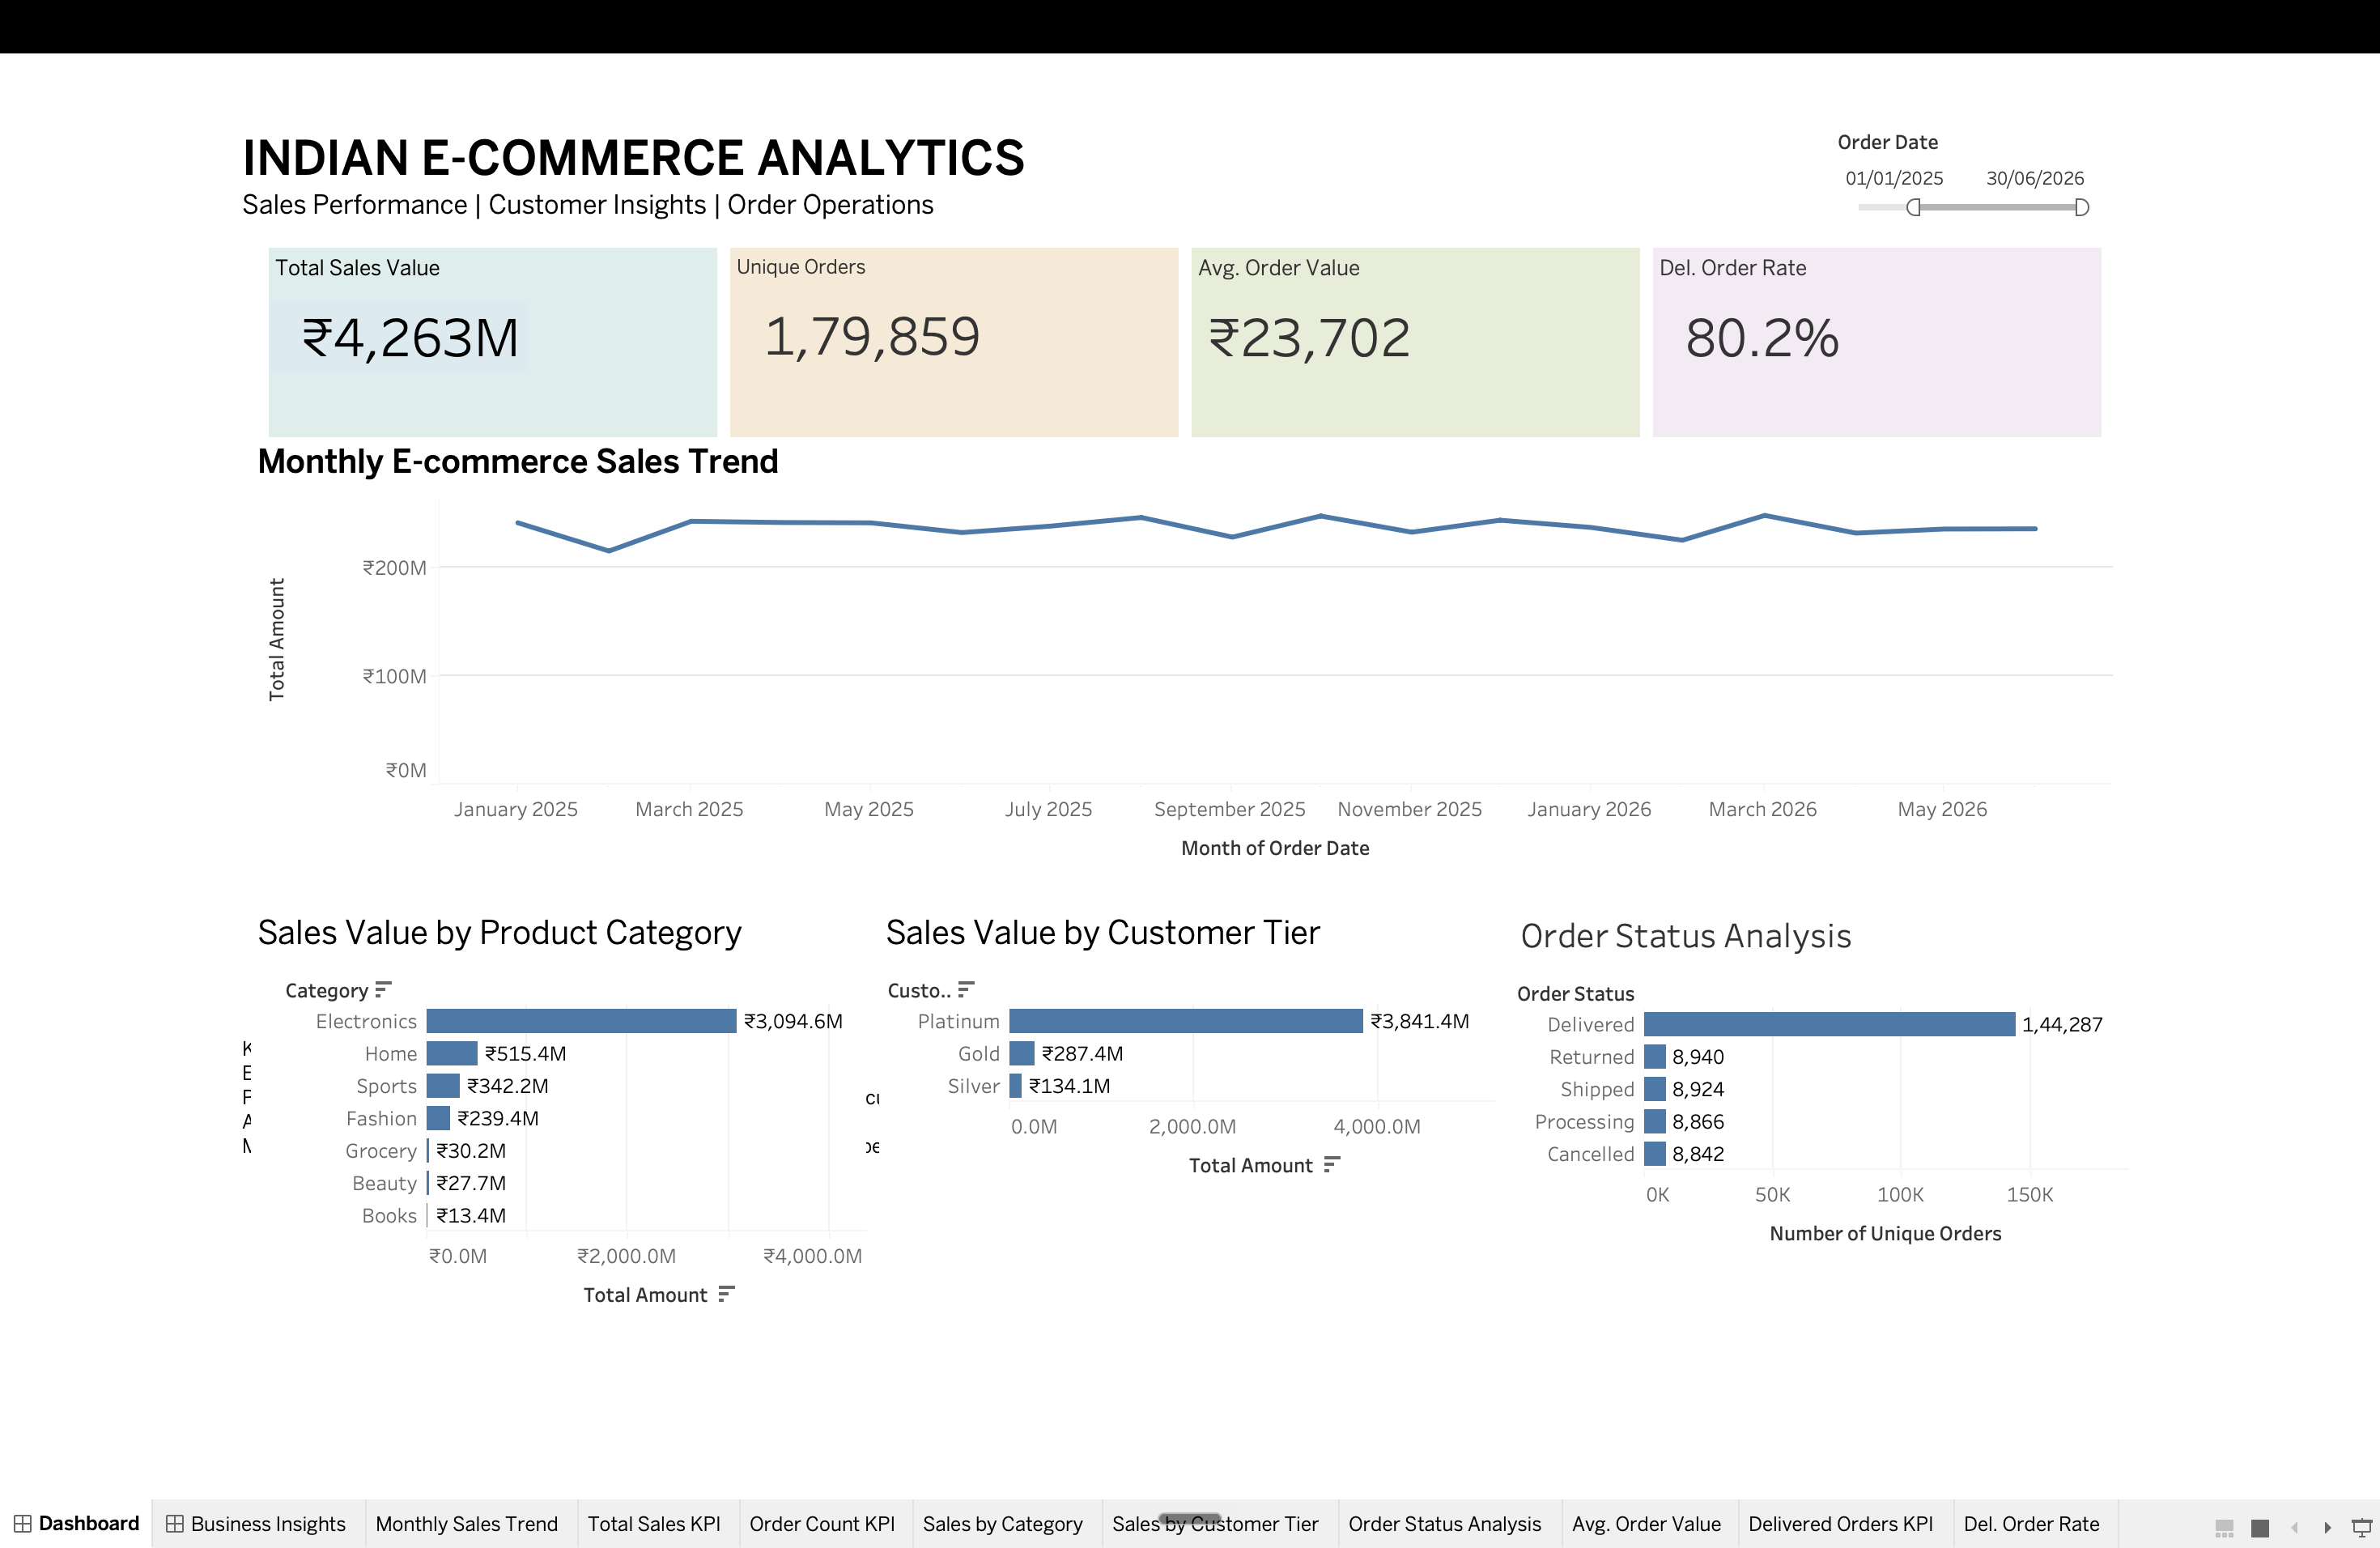

This screenshot's page, from the dashboard's own definition file:
{"tool":"tableau","page":{"name":"Dashboard","canvas":[1200,820],"ordinal":1},"visuals":[{"type":"text","box":[8,8,1184,400.7]},{"type":"filter","title":"Monthly Sales Trend","param":"[federated.0bud0om0487zih12tt0pt0pjv8jf].[none:Order_Date:qk]","box":[1000,10,160,63]},{"type":"worksheet","title":"Total Sales KPI","mark":"Automatic","box":[27,80,285,125]},{"type":"worksheet","title":"Order Count KPI","mark":"Automatic","box":[312,80,285,125]},{"type":"worksheet","title":"Avg. Order Value","mark":"Automatic","box":[597,80,285,125]},{"type":"worksheet","title":"Del. Order Rate","mark":"Automatic","box":[882,80,285,125]},{"type":"worksheet","title":"Monthly Sales Trend","mark":"Line","rows":["Total_Amount"],"cols":["Order_Date"],"box":[20,200,1150,270]},{"type":"text","box":[8,408.7,1184,403.3]},{"type":"worksheet","title":"Sales by Category","mark":"Bar","rows":["Category"],"cols":["Total_Amount"],"box":[20,490,380,260]},{"type":"worksheet","title":"Sales by Customer Tier","mark":"Bar","rows":["Customer_Tier"],"cols":["Total_Amount"],"box":[408,490,380,260]},{"type":"worksheet","title":"Order Status Analysis","mark":"Bar","rows":["Order_Status"],"cols":["Order_ID"],"box":[800,490,380,260]}]}

Visuals, with their boxes on the page's 1200x820 design canvas (x1, y1, x2, y2). These are canvas units, not pixel positions in the 2380x1548 screenshot, which may show the page scaled, cropped or inside an application window:
text: box=[8, 8, 1192, 409]
"Monthly Sales Trend" filter: box=[1000, 10, 1160, 73]
"Total Sales KPI" worksheet: box=[27, 80, 312, 205]
"Order Count KPI" worksheet: box=[312, 80, 597, 205]
"Avg. Order Value" worksheet: box=[597, 80, 882, 205]
"Del. Order Rate" worksheet: box=[882, 80, 1167, 205]
"Monthly Sales Trend" worksheet (Line marks): box=[20, 200, 1170, 470]
text: box=[8, 409, 1192, 812]
"Sales by Category" worksheet (Bar marks): box=[20, 490, 400, 750]
"Sales by Customer Tier" worksheet (Bar marks): box=[408, 490, 788, 750]
"Order Status Analysis" worksheet (Bar marks): box=[800, 490, 1180, 750]
